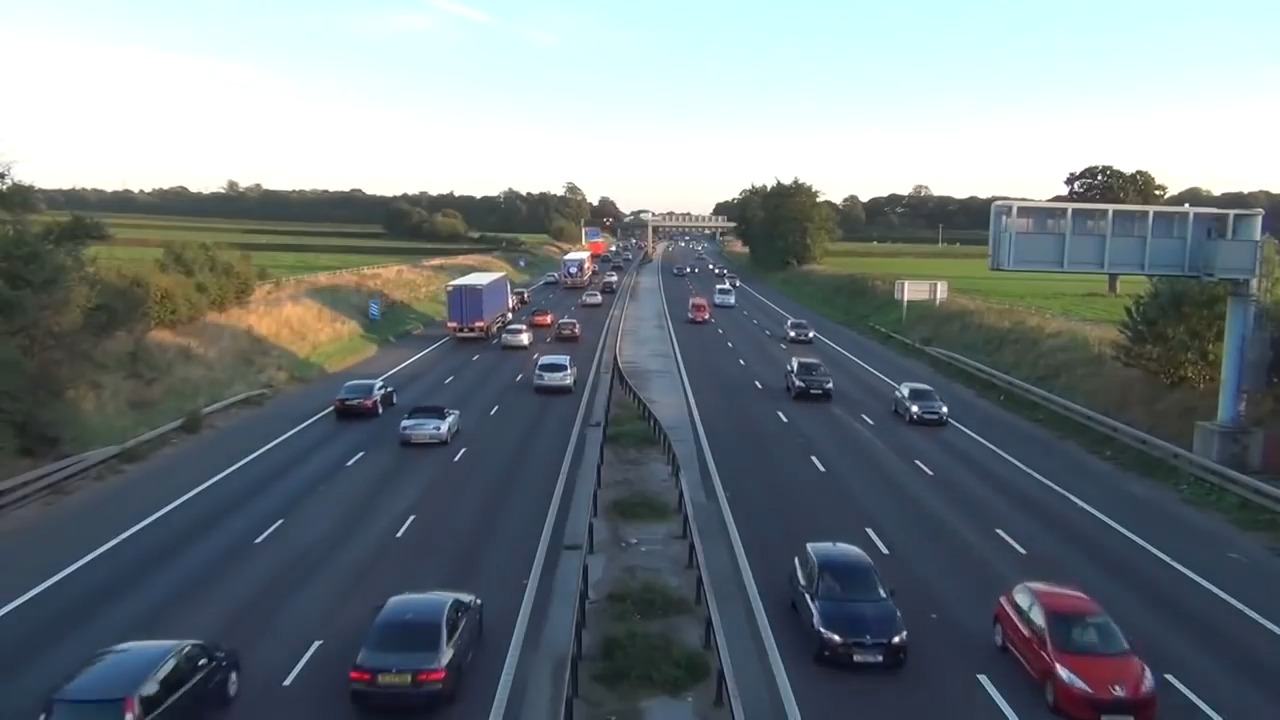truck: (442, 265, 518, 343)
